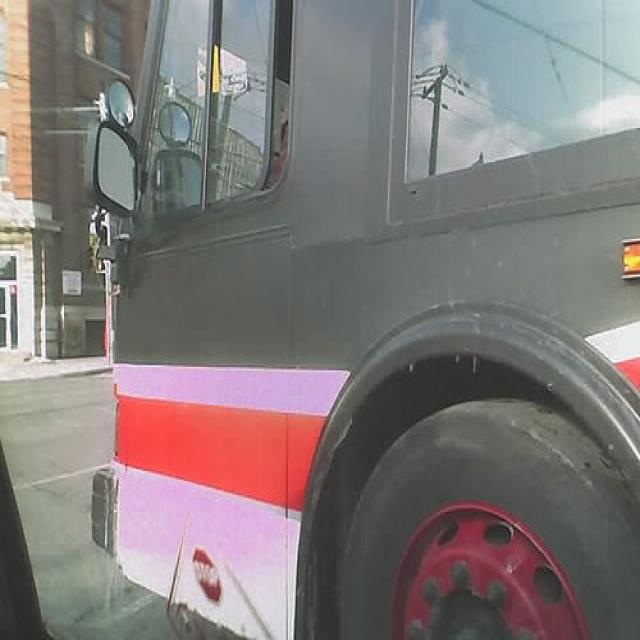Vehicle: (100, 0, 640, 630)
